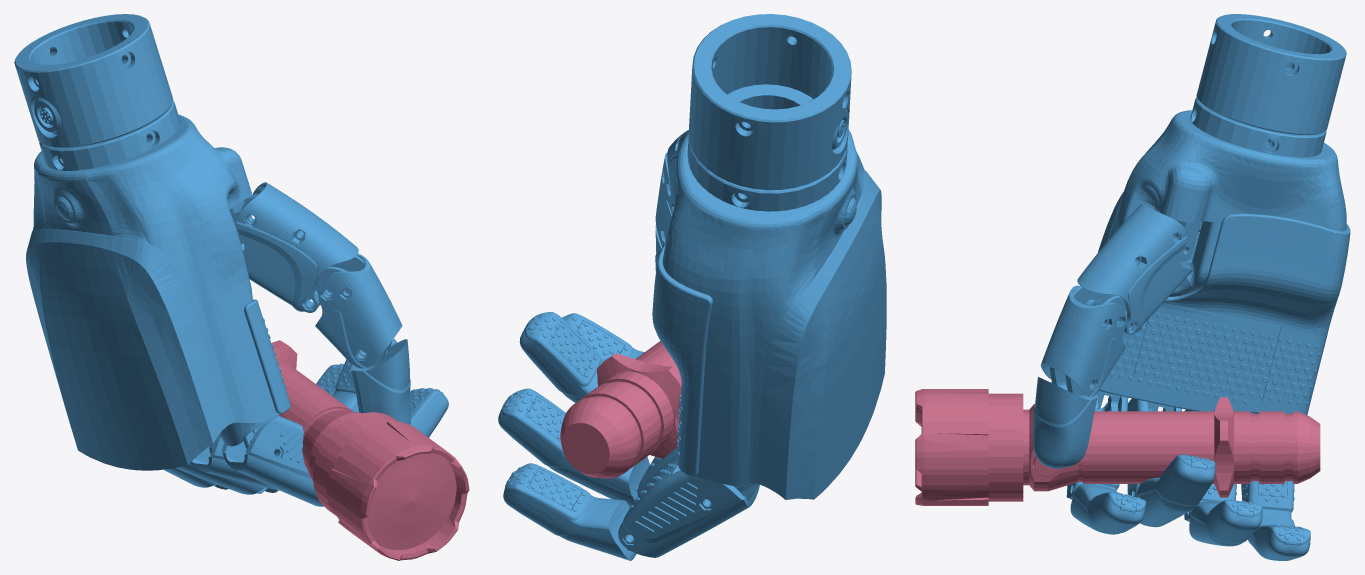
3 views of the same model, side by side, from view 1: azimuth 30°, elevation 25°; view 2: azimuth 150°, elevation 25°; view 3: azimuth 270°, elevation 25° (orthographic). The views are drawn at different scales.
Visible parts, largest first — view 1: 1; view 2: 1; view 3: 1.
Part boxes in pixels (x1,y1,x2,y2): 1: [14, 14, 469, 560]; 1: [498, 14, 886, 560]; 1: [915, 14, 1350, 560].
Bounding box in the file's own units: 0.1385 × 0.1916 × 0.1607.
